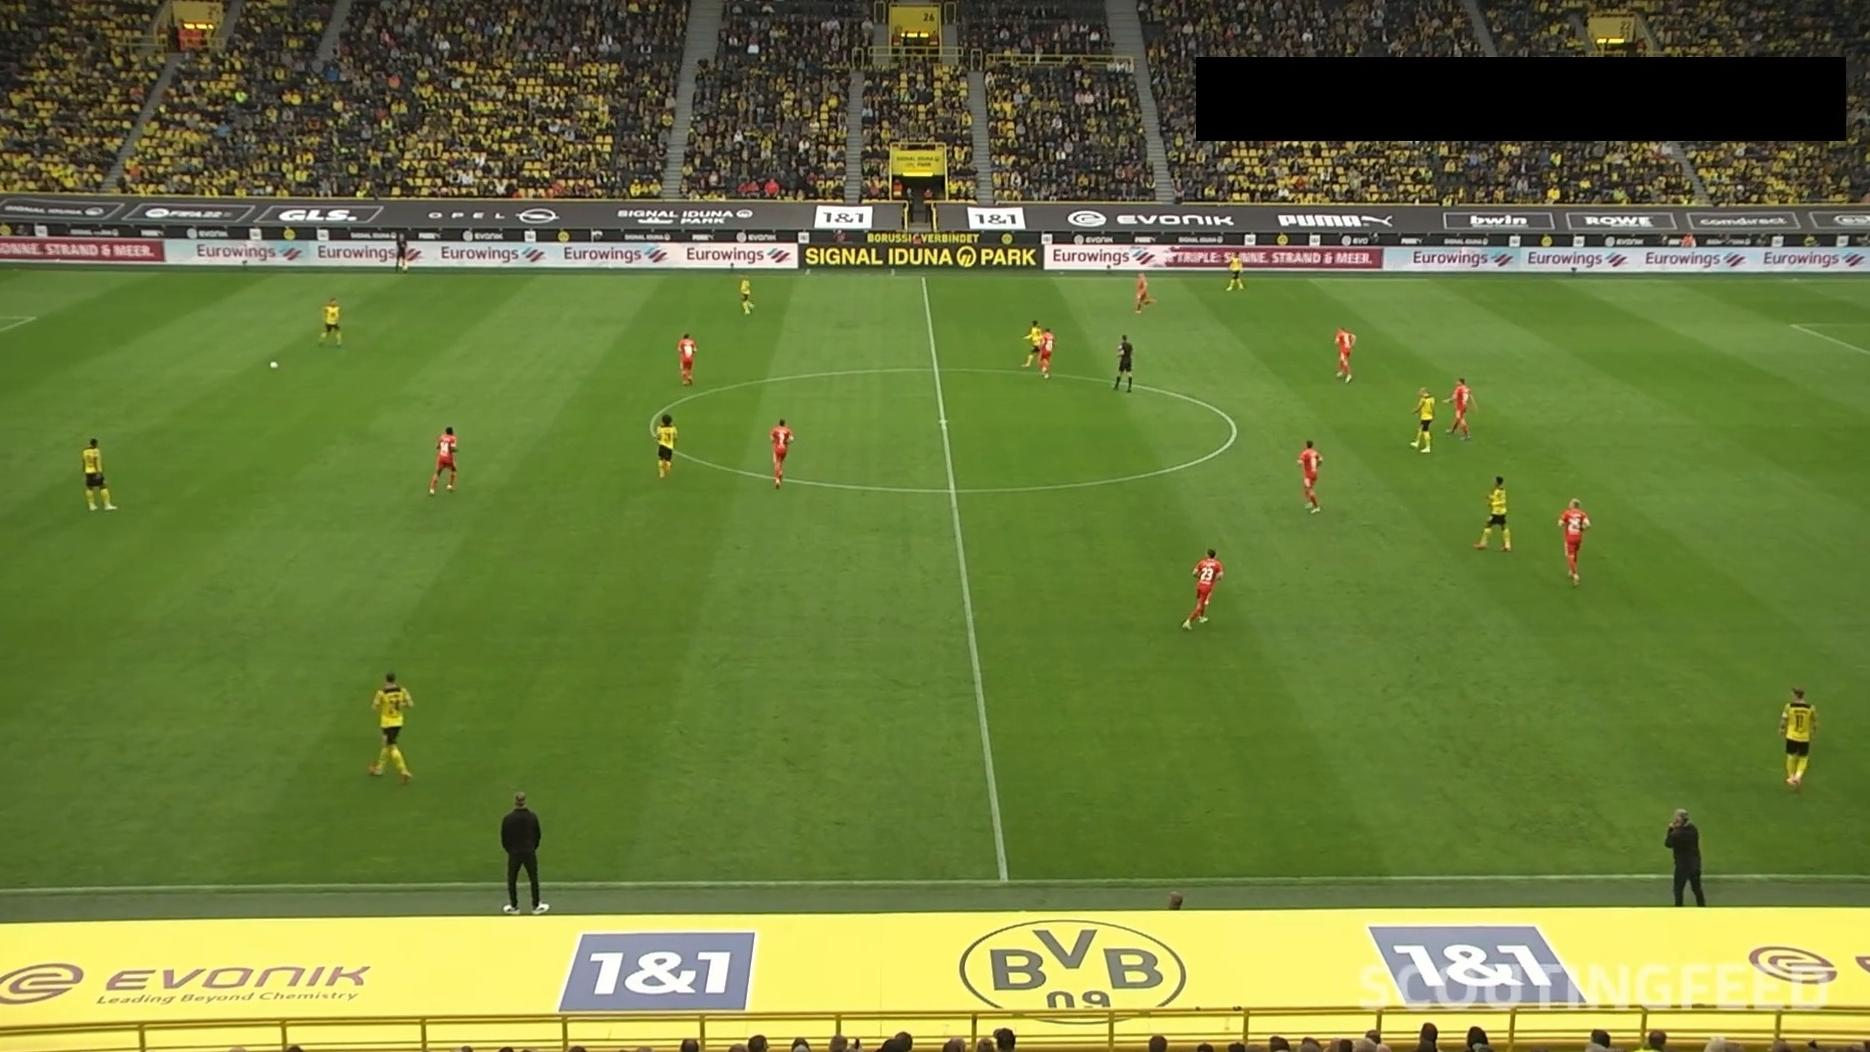ball: (268, 360, 280, 371)
